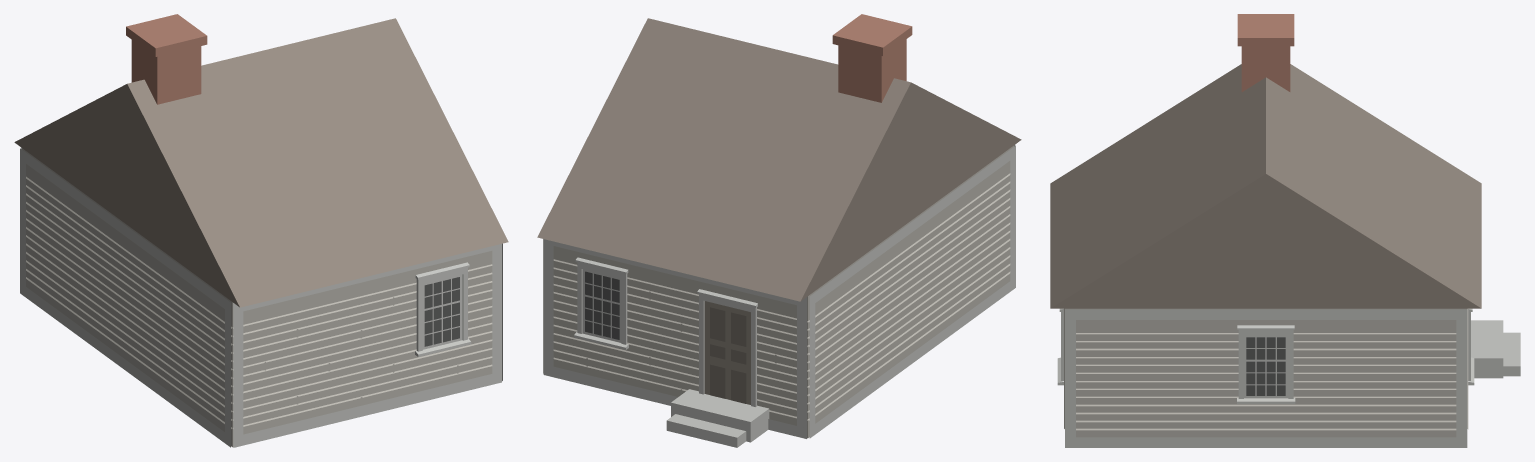
File: recon_1835_blk_randolph_dearborn_d3_01__inferred_1835.glb
3 views of the same model, side by side, from view 1: azimuth 30°, elevation 25°; view 2: azimuth 150°, elevation 25°; view 3: azimuth 270°, elevation 25° (orthographic). The views are drawn at different scales.
Parts seen in each view (by area): view 1: recon_1835_blk_randolph_dearborn_d3_01__inferred_1835; view 2: recon_1835_blk_randolph_dearborn_d3_01__inferred_1835; view 3: recon_1835_blk_randolph_dearborn_d3_01__inferred_1835.
Boxes of the visible parts, box(x1,y1,x2,y2) form: recon_1835_blk_randolph_dearborn_d3_01__inferred_1835: box(14, 14, 508, 447); recon_1835_blk_randolph_dearborn_d3_01__inferred_1835: box(537, 14, 1021, 447); recon_1835_blk_randolph_dearborn_d3_01__inferred_1835: box(1050, 14, 1520, 447).
Size of the model in its own units: 5.26 by 5.98 by 8.1.
